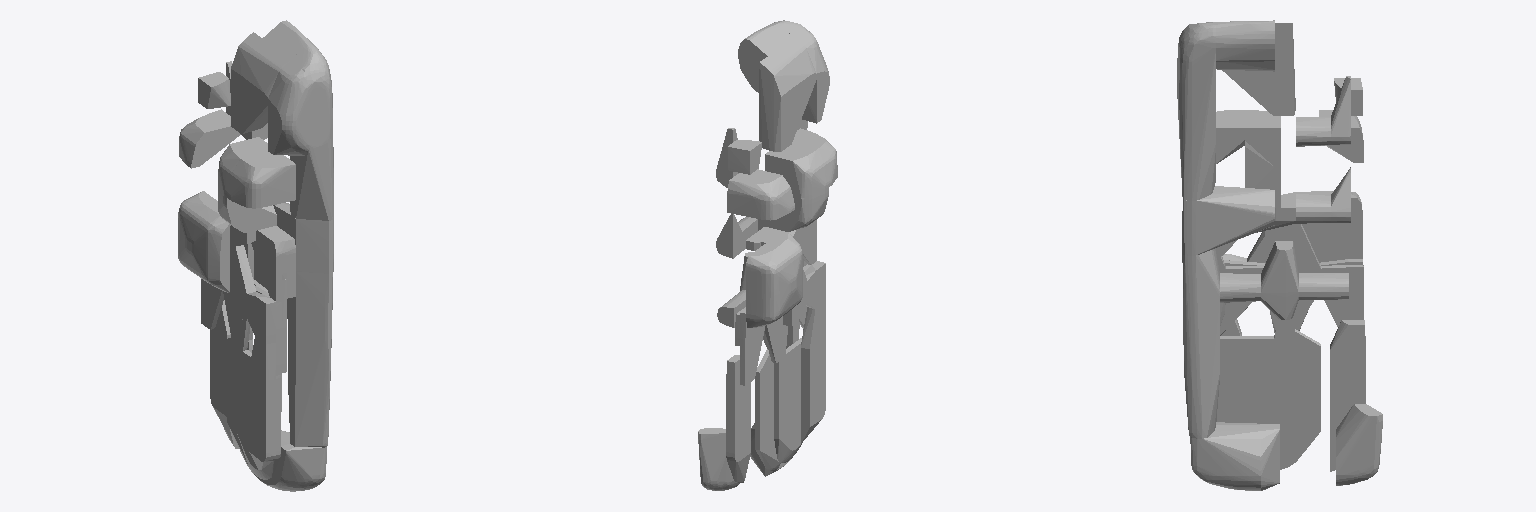
--- Render facts (derived) ---
3 views of the same robot in one strip: view 1: azimuth 30°, elevation 25°; view 2: azimuth 150°, elevation 25°; view 3: azimuth 270°, elevation 25° (orthographic).
Model root with 76 links and 75 joints (75 fixed), rooted at link_coacd_convex_piece_0, posed every joint at zero.
Visible links, largest first — view 1: link_coacd_convex_piece_8, link_coacd_convex_piece_4, link_coacd_convex_piece_11, link_coacd_convex_piece_30, link_coacd_convex_piece_35, link_coacd_convex_piece_43, link_coacd_convex_piece_23, link_coacd_convex_piece_0, link_coacd_convex_piece_1, link_coacd_convex_piece_14, link_coacd_convex_piece_41, link_coacd_convex_piece_37 (+11 smaller); view 2: link_coacd_convex_piece_30, link_coacd_convex_piece_11, link_coacd_convex_piece_43, link_coacd_convex_piece_41, link_coacd_convex_piece_14, link_coacd_convex_piece_37, link_coacd_convex_piece_16, link_coacd_convex_piece_55, link_coacd_convex_piece_5, link_coacd_convex_piece_18, link_coacd_convex_piece_35, link_coacd_convex_piece_15 (+7 smaller); view 3: link_coacd_convex_piece_8, link_coacd_convex_piece_4, link_coacd_convex_piece_55, link_coacd_convex_piece_1, link_coacd_convex_piece_41, link_coacd_convex_piece_0, link_coacd_convex_piece_37, link_coacd_convex_piece_5, link_coacd_convex_piece_30, link_coacd_convex_piece_18, link_coacd_convex_piece_11, link_coacd_convex_piece_36 (+15 smaller).
Link boxes in pixels (<box>): link_coacd_convex_piece_8: <box>288,272,332,447</box>; link_coacd_convex_piece_4: <box>290,44,333,220</box>; link_coacd_convex_piece_11: <box>178,191,230,292</box>; link_coacd_convex_piece_30: <box>231,32,290,133</box>; link_coacd_convex_piece_35: <box>268,61,308,155</box>; link_coacd_convex_piece_43: <box>249,337,275,469</box>; link_coacd_convex_piece_23: <box>227,152,295,208</box>; link_coacd_convex_piece_0: <box>273,203,333,273</box>; link_coacd_convex_piece_1: <box>254,430,326,491</box>; link_coacd_convex_piece_14: <box>179,109,240,168</box>; link_coacd_convex_piece_41: <box>236,347,281,479</box>; link_coacd_convex_piece_37: <box>210,300,235,448</box>; link_coacd_convex_piece_30: <box>759,38,816,151</box>; link_coacd_convex_piece_11: <box>746,231,802,327</box>; link_coacd_convex_piece_43: <box>801,302,825,443</box>; link_coacd_convex_piece_41: <box>774,338,801,462</box>; link_coacd_convex_piece_14: <box>727,169,794,220</box>; link_coacd_convex_piece_37: <box>726,355,750,482</box>; link_coacd_convex_piece_16: <box>765,145,828,197</box>; link_coacd_convex_piece_55: <box>755,349,780,470</box>; link_coacd_convex_piece_5: <box>698,428,739,490</box>; link_coacd_convex_piece_18: <box>738,23,793,92</box>; link_coacd_convex_piece_35: <box>795,30,829,123</box>; link_coacd_convex_piece_15: <box>765,189,828,231</box>; link_coacd_convex_piece_8: <box>1182,249,1219,438</box>; link_coacd_convex_piece_4: <box>1177,22,1215,200</box>; link_coacd_convex_piece_55: <box>1274,329,1320,469</box>; link_coacd_convex_piece_1: <box>1190,422,1279,490</box>; link_coacd_convex_piece_41: <box>1217,336,1273,423</box>; link_coacd_convex_piece_0: <box>1182,186,1274,255</box>; link_coacd_convex_piece_37: <box>1330,320,1365,471</box>; link_coacd_convex_piece_5: <box>1336,404,1382,485</box>; link_coacd_convex_piece_30: <box>1222,23,1295,115</box>; link_coacd_convex_piece_18: <box>1216,20,1274,71</box>; link_coacd_convex_piece_11: <box>1282,191,1362,262</box>; link_coacd_convex_piece_36: <box>1261,241,1298,319</box>.
Size in the robot's own frame: 0.0508 by 0.1063 by 0.2709 metres.
41 mesh visuals loaded from 76 distinct referenced files (41 OBJ); not drawn: 35 (reference not matched to a file when rendering).

robot.urdf — root:
<robot name="root">
  <link name="link_coacd_convex_piece_0">
    <inertial>
      <origin xyz="0 0 0" rpy="0 0 0"/>
      <inertia ixx="1.24E-08" ixy="3.77E-09" ixz="-2.43E-09" iyy="5.85E-09" iyz="4.87E-09" izz="1.04E-08"/>
    </inertial>
    <visual>
      <origin xyz="0 0 0" rpy="0 0 0"/>
      <geometry>
        <mesh filename="coacd_convex_piece_0.obj" scale="1.0000E+00 1.0000E+00 1.0000E+00"/>
      </geometry>
      <material name="">
        <color rgba="7.50E-01 7.50E-01 7.50E-01 1"/>
      </material>
    </visual>
    <collision>
      <origin xyz="0 0 0" rpy="0 0 0"/>
      <geometry>
        <mesh filename="coacd_convex_piece_0.obj" scale="1.0000E+00 1.0000E+00 1.0000E+00"/>
      </geometry>
    </collision>
  </link>
  <link name="link_coacd_convex_piece_1">
    <inertial>
      <origin xyz="0 0 0" rpy="0 0 0"/>
      <inertia ixx="1.66E-07" ixy="3.44E-09" ixz="1.58E-08" iyy="1.60E-07" iyz="-3.16E-08" izz="9.93E-09"/>
    </inertial>
    <visual>
      <origin xyz="0 0 0" rpy="0 0 0"/>
      <geometry>
        <mesh filename="coacd_convex_piece_1.obj" scale="1.0000E+00 1.0000E+00 1.0000E+00"/>
      </geometry>
      <material name="">
        <color rgba="7.50E-01 7.50E-01 7.50E-01 1"/>
      </material>
    </visual>
    <collision>
      <origin xyz="0 0 0" rpy="0 0 0"/>
      <geometry>
        <mesh filename="coacd_convex_piece_1.obj" scale="1.0000E+00 1.0000E+00 1.0000E+00"/>
      </geometry>
    </collision>
  </link>
  <joint name="link_coacd_convex_piece_1_joint" type="fixed">
    <origin xyz="0 0 0" rpy="0 0 0"/>
    <parent link="link_coacd_convex_piece_0"/>
    <child link="link_coacd_convex_piece_1"/>
  </joint>
  <link name="link_coacd_convex_piece_2">
    <inertial>
      <origin xyz="0 0 0" rpy="0 0 0"/>
      <inertia ixx="1.95E-07" ixy="-4.46E-09" ixz="-2.51E-08" iyy="1.90E-07" iyz="-3.24E-08" izz="1.23E-08"/>
    </inertial>
    <visual>
      <origin xyz="0 0 0" rpy="0 0 0"/>
      <geometry>
        <mesh filename="coacd_convex_piece_2.obj" scale="1.0000E+00 1.0000E+00 1.0000E+00"/>
      </geometry>
      <material name="">
        <color rgba="7.50E-01 7.50E-01 7.50E-01 1"/>
      </material>
    </visual>
    <collision>
      <origin xyz="0 0 0" rpy="0 0 0"/>
      <geometry>
        <mesh filename="coacd_convex_piece_2.obj" scale="1.0000E+00 1.0000E+00 1.0000E+00"/>
      </geometry>
    </collision>
  </link>
  <joint name="link_coacd_convex_piece_2_joint" type="fixed">
    <origin xyz="0 0 0" rpy="0 0 0"/>
    <parent link="link_coacd_convex_piece_1"/>
    <child link="link_coacd_convex_piece_2"/>
  </joint>
  <link name="link_coacd_convex_piece_3">
    <inertial>
      <origin xyz="0 0 0" rpy="0 0 0"/>
      <inertia ixx="2.03E-07" ixy="-3.38E-10" ixz="3.12E-08" iyy="1.96E-07" iyz="2.62E-09" izz="1.81E-08"/>
    </inertial>
    <visual>
      <origin xyz="0 0 0" rpy="0 0 0"/>
      <geometry>
        <mesh filename="coacd_convex_piece_3.obj" scale="1.0000E+00 1.0000E+00 1.0000E+00"/>
      </geometry>
      <material name="">
        <color rgba="7.50E-01 7.50E-01 7.50E-01 1"/>
      </material>
    </visual>
    <collision>
      <origin xyz="0 0 0" rpy="0 0 0"/>
      <geometry>
        <mesh filename="coacd_convex_piece_3.obj" scale="1.0000E+00 1.0000E+00 1.0000E+00"/>
      </geometry>
    </collision>
  </link>
  <joint name="link_coacd_convex_piece_3_joint" type="fixed">
    <origin xyz="0 0 0" rpy="0 0 0"/>
    <parent link="link_coacd_convex_piece_2"/>
    <child link="link_coacd_convex_piece_3"/>
  </joint>
  <link name="link_coacd_convex_piece_4">
    <inertial>
      <origin xyz="0 0 0" rpy="0 0 0"/>
      <inertia ixx="1.36E-07" ixy="9.33E-09" ixz="-1.81E-08" iyy="1.13E-07" iyz="5.14E-08" izz="3.05E-08"/>
    </inertial>
    <visual>
      <origin xyz="0 0 0" rpy="0 0 0"/>
      <geometry>
        <mesh filename="coacd_convex_piece_4.obj" scale="1.0000E+00 1.0000E+00 1.0000E+00"/>
      </geometry>
      <material name="">
        <color rgba="7.50E-01 7.50E-01 7.50E-01 1"/>
      </material>
    </visual>
    <collision>
      <origin xyz="0 0 0" rpy="0 0 0"/>
      <geometry>
        <mesh filename="coacd_convex_piece_4.obj" scale="1.0000E+00 1.0000E+00 1.0000E+00"/>
      </geometry>
    </collision>
  </link>
  <joint name="link_coacd_convex_piece_4_joint" type="fixed">
    <origin xyz="0 0 0" rpy="0 0 0"/>
    <parent link="link_coacd_convex_piece_3"/>
    <child link="link_coacd_convex_piece_4"/>
  </joint>
  <link name="link_coacd_convex_piece_5">
    <inertial>
      <origin xyz="0 0 0" rpy="0 0 0"/>
      <inertia ixx="6.55E-08" ixy="-2.67E-09" ixz="7.65E-09" iyy="5.95E-08" iyz="1.99E-08" izz="8.19E-09"/>
    </inertial>
    <visual>
      <origin xyz="0 0 0" rpy="0 0 0"/>
      <geometry>
        <mesh filename="coacd_convex_piece_5.obj" scale="1.0000E+00 1.0000E+00 1.0000E+00"/>
      </geometry>
      <material name="">
        <color rgba="7.50E-01 7.50E-01 7.50E-01 1"/>
      </material>
    </visual>
    <collision>
      <origin xyz="0 0 0" rpy="0 0 0"/>
      <geometry>
        <mesh filename="coacd_convex_piece_5.obj" scale="1.0000E+00 1.0000E+00 1.0000E+00"/>
      </geometry>
    </collision>
  </link>
  <joint name="link_coacd_convex_piece_5_joint" type="fixed">
    <origin xyz="0 0 0" rpy="0 0 0"/>
    <parent link="link_coacd_convex_piece_4"/>
    <child link="link_coacd_convex_piece_5"/>
  </joint>
  <link name="link_coacd_convex_piece_6">
    <inertial>
      <origin xyz="0 0 0" rpy="0 0 0"/>
      <inertia ixx="1.00E-07" ixy="-9.01E-09" ixz="-2.04E-08" iyy="9.48E-08" iyz="-2.32E-08" izz="2.14E-08"/>
    </inertial>
    <visual>
      <origin xyz="0 0 0" rpy="0 0 0"/>
      <geometry>
        <mesh filename="coacd_convex_piece_6.obj" scale="1.0000E+00 1.0000E+00 1.0000E+00"/>
      </geometry>
      <material name="">
        <color rgba="7.50E-01 7.50E-01 7.50E-01 1"/>
      </material>
    </visual>
    <collision>
      <origin xyz="0 0 0" rpy="0 0 0"/>
      <geometry>
        <mesh filename="coacd_convex_piece_6.obj" scale="1.0000E+00 1.0000E+00 1.0000E+00"/>
      </geometry>
    </collision>
  </link>
  <joint name="link_coacd_convex_piece_6_joint" type="fixed">
    <origin xyz="0 0 0" rpy="0 0 0"/>
    <parent link="link_coacd_convex_piece_5"/>
    <child link="link_coacd_convex_piece_6"/>
  </joint>
  <link name="link_coacd_convex_piece_7">
    <inertial>
      <origin xyz="0 0 0" rpy="0 0 0"/>
      <inertia ixx="1.43E-07" ixy="-1.03E-09" ixz="1.70E-08" iyy="1.43E-07" iyz="8.55E-09" izz="3.95E-09"/>
    </inertial>
    <visual>
      <origin xyz="0 0 0" rpy="0 0 0"/>
      <geometry>
        <mesh filename="coacd_convex_piece_7.obj" scale="1.0000E+00 1.0000E+00 1.0000E+00"/>
      </geometry>
      <material name="">
        <color rgba="7.50E-01 7.50E-01 7.50E-01 1"/>
      </material>
    </visual>
    <collision>
      <origin xyz="0 0 0" rpy="0 0 0"/>
      <geometry>
        <mesh filename="coacd_convex_piece_7.obj" scale="1.0000E+00 1.0000E+00 1.0000E+00"/>
      </geometry>
    </collision>
  </link>
  <joint name="link_coacd_convex_piece_7_joint" type="fixed">
    <origin xyz="0 0 0" rpy="0 0 0"/>
    <parent link="link_coacd_convex_piece_6"/>
    <child link="link_coacd_convex_piece_7"/>
  </joint>
  <link name="link_coacd_convex_piece_8">
    <inertial>
      <origin xyz="0 0 0" rpy="0 0 0"/>
      <inertia ixx="4.92E-08" ixy="6.75E-09" ixz="7.59E-09" iyy="3.44E-08" iyz="-1.98E-08" izz="2.03E-08"/>
    </inertial>
    <visual>
      <origin xyz="0 0 0" rpy="0 0 0"/>
      <geometry>
        <mesh filename="coacd_convex_piece_8.obj" scale="1.0000E+00 1.0000E+00 1.0000E+00"/>
      </geometry>
      <material name="">
        <color rgba="7.50E-01 7.50E-01 7.50E-01 1"/>
      </material>
    </visual>
    <collision>
      <origin xyz="0 0 0" rpy="0 0 0"/>
      <geometry>
        <mesh filename="coacd_convex_piece_8.obj" scale="1.0000E+00 1.0000E+00 1.0000E+00"/>
      </geometry>
    </collision>
  </link>
  <joint name="link_coacd_convex_piece_8_joint" type="fixed">
    <origin xyz="0 0 0" rpy="0 0 0"/>
    <parent link="link_coacd_convex_piece_7"/>
    <child link="link_coacd_convex_piece_8"/>
  </joint>
  <link name="link_coacd_convex_piece_9">
    <inertial>
      <origin xyz="0 0 0" rpy="0 0 0"/>
      <inertia ixx="1.62E-07" ixy="8.86E-09" ixz="-2.83E-08" iyy="1.52E-07" iyz="4.03E-08" izz="2.37E-08"/>
    </inertial>
    <visual>
      <origin xyz="0 0 0" rpy="0 0 0"/>
      <geometry>
        <mesh filename="coacd_convex_piece_9.obj" scale="1.0000E+00 1.0000E+00 1.0000E+00"/>
      </geometry>
      <material name="">
        <color rgba="7.50E-01 7.50E-01 7.50E-01 1"/>
      </material>
    </visual>
    <collision>
      <origin xyz="0 0 0" rpy="0 0 0"/>
      <geometry>
        <mesh filename="coacd_convex_piece_9.obj" scale="1.0000E+00 1.0000E+00 1.0000E+00"/>
      </geometry>
    </collision>
  </link>
  <joint name="link_coacd_convex_piece_9_joint" type="fixed">
    <origin xyz="0 0 0" rpy="0 0 0"/>
    <parent link="link_coacd_convex_piece_8"/>
    <child link="link_coacd_convex_piece_9"/>
  </joint>
  <link name="link_coacd_convex_piece_10">
    <inertial>
      <origin xyz="0 0 0" rpy="0 0 0"/>
      <inertia ixx="8.25E-08" ixy="-1.18E-08" ixz="-1.28E-09" iyy="5.32E-08" iyz="-2.88E-09" izz="3.80E-08"/>
    </inertial>
    <visual>
      <origin xyz="0 0 0" rpy="0 0 0"/>
      <geometry>
        <mesh filename="coacd_convex_piece_10.obj" scale="1.0000E+00 1.0000E+00 1.0000E+00"/>
      </geometry>
      <material name="">
        <color rgba="7.50E-01 7.50E-01 7.50E-01 1"/>
      </material>
    </visual>
    <collision>
      <origin xyz="0 0 0" rpy="0 0 0"/>
      <geometry>
        <mesh filename="coacd_convex_piece_10.obj" scale="1.0000E+00 1.0000E+00 1.0000E+00"/>
      </geometry>
    </collision>
  </link>
  <joint name="link_coacd_convex_piece_10_joint" type="fixed">
    <origin xyz="0 0 0" rpy="0 0 0"/>
    <parent link="link_coacd_convex_piece_9"/>
    <child link="link_coacd_convex_piece_10"/>
  </joint>
  <link name="link_coacd_convex_piece_11">
    <inertial>
      <origin xyz="0 0 0" rpy="0 0 0"/>
      <inertia ixx="9.17E-09" ixy="3.70E-09" ixz="1.38E-10" iyy="4.70E-09" iyz="-1.90E-10" izz="1.01E-08"/>
    </inertial>
    <visual>
      <origin xyz="0 0 0" rpy="0 0 0"/>
      <geometry>
        <mesh filename="coacd_convex_piece_11.obj" scale="1.0000E+00 1.0000E+00 1.0000E+00"/>
      </geometry>
      <material name="">
        <color rgba="7.50E-01 7.50E-01 7.50E-01 1"/>
      </material>
    </visual>
    <collision>
      <origin xyz="0 0 0" rpy="0 0 0"/>
      <geometry>
        <mesh filename="coacd_convex_piece_11.obj" scale="1.0000E+00 1.0000E+00 1.0000E+00"/>
      </geometry>
    </collision>
  </link>
  <joint name="link_coacd_convex_piece_11_joint" type="fixed">
    <origin xyz="0 0 0" rpy="0 0 0"/>
    <parent link="link_coacd_convex_piece_10"/>
    <child link="link_coacd_convex_piece_11"/>
  </joint>
  <link name="link_coacd_convex_piece_12">
    <inertial>
      <origin xyz="0 0 0" rpy="0 0 0"/>
      <inertia ixx="2.55E-08" ixy="3.87E-12" ixz="1.44E-10" iyy="2.30E-08" iyz="1.05E-09" izz="2.69E-09"/>
    </inertial>
    <visual>
      <origin xyz="0 0 0" rpy="0 0 0"/>
      <geometry>
        <mesh filename="coacd_convex_piece_12.obj" scale="1.0000E+00 1.0000E+00 1.0000E+00"/>
      </geometry>
      <material name="">
        <color rgba="7.50E-01 7.50E-01 7.50E-01 1"/>
      </material>
    </visual>
    <collision>
      <origin xyz="0 0 0" rpy="0 0 0"/>
      <geometry>
        <mesh filename="coacd_convex_piece_12.obj" scale="1.0000E+00 1.0000E+00 1.0000E+00"/>
      </geometry>
    </collision>
  </link>
  <joint name="link_coacd_convex_piece_12_joint" type="fixed">
    <origin xyz="0 0 0" rpy="0 0 0"/>
    <parent link="link_coacd_convex_piece_11"/>
    <child link="link_coacd_convex_piece_12"/>
  </joint>
  <link name="link_coacd_convex_piece_13">
    <inertial>
      <origin xyz="0 0 0" rpy="0 0 0"/>
      <inertia ixx="3.09E-09" ixy="1.57E-10" ixz="-1.61E-10" iyy="1.67E-09" iyz="1.45E-09" izz="1.46E-09"/>
    </inertial>
    <visual>
      <origin xyz="0 0 0" rpy="0 0 0"/>
      <geometry>
        <mesh filename="coacd_convex_piece_13.obj" scale="1.0000E+00 1.0000E+00 1.0000E+00"/>
      </geometry>
      <material name="">
        <color rgba="7.50E-01 7.50E-01 7.50E-01 1"/>
      </material>
    </visual>
    <collision>
      <origin xyz="0 0 0" rpy="0 0 0"/>
      <geometry>
        <mesh filename="coacd_convex_piece_13.obj" scale="1.0000E+00 1.0000E+00 1.0000E+00"/>
      </geometry>
    </collision>
  </link>
  <joint name="link_coacd_convex_piece_13_joint" type="fixed">
    <origin xyz="0 0 0" rpy="0 0 0"/>
    <parent link="link_coacd_convex_piece_12"/>
    <child link="link_coacd_convex_piece_13"/>
  </joint>
  <link name="link_coacd_convex_piece_14">
    <inertial>
      <origin xyz="0 0 0" rpy="0 0 0"/>
      <inertia ixx="2.22E-08" ixy="1.16E-09" ixz="2.32E-09" iyy="1.81E-08" iyz="-8.82E-09" izz="5.37E-09"/>
    </inertial>
    <visual>
      <origin xyz="0 0 0" rpy="0 0 0"/>
      <geometry>
        <mesh filename="coacd_convex_piece_14.obj" scale="1.0000E+00 1.0000E+00 1.0000E+00"/>
      </geometry>
      <material name="">
        <color rgba="7.50E-01 7.50E-01 7.50E-01 1"/>
      </material>
    </visual>
    <collision>
      <origin xyz="0 0 0" rpy="0 0 0"/>
      <geometry>
        <mesh filename="coacd_convex_piece_14.obj" scale="1.0000E+00 1.0000E+00 1.0000E+00"/>
      </geometry>
    </collision>
  </link>
  <joint name="link_coacd_convex_piece_14_joint" type="fixed">
    <origin xyz="0 0 0" rpy="0 0 0"/>
    <parent link="link_coacd_convex_piece_13"/>
    <child link="link_coacd_convex_piece_14"/>
  </joint>
  <link name="link_coacd_convex_piece_15">
    <inertial>
      <origin xyz="0 0 0" rpy="0 0 0"/>
      <inertia ixx="6.81E-09" ixy="-4.52E-10" ixz="1.46E-09" iyy="6.80E-09" iyz="1.74E-09" izz="1.31E-09"/>
    </inertial>
    <visual>
      <origin xyz="0 0 0" rpy="0 0 0"/>
      <geometry>
        <mesh filename="coacd_convex_piece_15.obj" scale="1.0000E+00 1.0000E+00 1.0000E+00"/>
      </geometry>
      <material name="">
        <color rgba="7.50E-01 7.50E-01 7.50E-01 1"/>
      </material>
    </visual>
    <collision>
      <origin xyz="0 0 0" rpy="0 0 0"/>
      <geometry>
        <mesh filename="coacd_convex_piece_15.obj" scale="1.0000E+00 1.0000E+00 1.0000E+00"/>
      </geometry>
    </collision>
  </link>
  <joint name="link_coacd_convex_piece_15_joint" type="fixed">
    <origin xyz="0 0 0" rpy="0 0 0"/>
    <parent link="link_coacd_convex_piece_14"/>
    <child link="link_coacd_convex_piece_15"/>
  </joint>
  <link name="link_coacd_convex_piece_16">
    <inertial>
      <origin xyz="0 0 0" rpy="0 0 0"/>
      <inertia ixx="1.67E-08" ixy="-4.28E-10" ixz="2.15E-09" iyy="1.67E-08" iyz="2.83E-09" izz="1.24E-09"/>
    </inertial>
    <visual>
      <origin xyz="0 0 0" rpy="0 0 0"/>
      <geometry>
        <mesh filename="coacd_convex_piece_16.obj" scale="1.0000E+00 1.0000E+00 1.0000E+00"/>
      </geometry>
      <material name="">
        <color rgba="7.50E-01 7.50E-01 7.50E-01 1"/>
      </material>
    </visual>
    <collision>
      <origin xyz="0 0 0" rpy="0 0 0"/>
      <geometry>
        <mesh filename="coacd_convex_piece_16.obj" scale="1.0000E+00 1.0000E+00 1.0000E+00"/>
      </geometry>
    </collision>
  </link>
  <joint name="link_coacd_convex_piece_16_joint" type="fixed">
    <origin xyz="0 0 0" rpy="0 0 0"/>
    <parent link="link_coacd_convex_piece_15"/>
    <child link="link_coacd_convex_piece_16"/>
  </joint>
  <link name="link_coacd_convex_piece_17">
    <inertial>
      <origin xyz="0 0 0" rpy="0 0 0"/>
      <inertia ixx="1.65E-08" ixy="3.59E-10" ixz="2.11E-09" iyy="1.67E-08" iyz="-2.40E-09" izz="1.08E-09"/>
    </inertial>
    <visual>
      <origin xyz="0 0 0" rpy="0 0 0"/>
      <geometry>
        <mesh filename="coacd_convex_piece_17.obj" scale="1.0000E+00 1.0000E+00 1.0000E+00"/>
      </geometry>
      <material name="">
        <color rgba="7.50E-01 7.50E-01 7.50E-01 1"/>
      </material>
    </visual>
    <collision>
      <origin xyz="0 0 0" rpy="0 0 0"/>
      <geometry>
        <mesh filename="coacd_convex_piece_17.obj" scale="1.0000E+00 1.0000E+00 1.0000E+00"/>
      </geometry>
    </collision>
  </link>
  <joint name="link_coacd_convex_piece_17_joint" type="fixed">
    <origin xyz="0 0 0" rpy="0 0 0"/>
    <parent link="link_coacd_convex_piece_16"/>
    <child link="link_coacd_convex_piece_17"/>
  </joint>
  <link name="link_coacd_convex_piece_18">
    <inertial>
      <origin xyz="0 0 0" rpy="0 0 0"/>
      <inertia ixx="9.74E-08" ixy="1.96E-09" ixz="-1.23E-08" iyy="9.62E-08" iyz="1.51E-08" izz="4.68E-09"/>
    </inertial>
    <visual>
      <origin xyz="0 0 0" rpy="0 0 0"/>
      <geometry>
        <mesh filename="coacd_convex_piece_18.obj" scale="1.0000E+00 1.0000E+00 1.0000E+00"/>
      </geometry>
      <material name="">
        <color rgba="7.50E-01 7.50E-01 7.50E-01 1"/>
      </material>
    </visual>
    <collision>
      <origin xyz="0 0 0" rpy="0 0 0"/>
      <geometry>
        <mesh filename="coacd_convex_piece_18.obj" scale="1.0000E+00 1.0000E+00 1.0000E+00"/>
      </geometry>
    </collision>
  </link>
  <joint name="link_coacd_convex_piece_18_joint" type="fixed">
    <origin xyz="0 0 0" rpy="0 0 0"/>
    <parent link="link_coacd_convex_piece_17"/>
    <child link="link_coacd_convex_piece_18"/>
  </joint>
  <link name="link_coacd_convex_piece_19">
    <inertial>
      <origin xyz="0 0 0" rpy="0 0 0"/>
      <inertia ixx="7.35E-09" ixy="4.08E-10" ixz="1.55E-09" iyy="7.48E-09" iyz="-1.61E-09" izz="1.24E-09"/>
    </inertial>
    <visual>
      <origin xyz="0 0 0" rpy="0 0 0"/>
      <geometry>
        <mesh filename="coacd_convex_piece_19.obj" scale="1.0000E+00 1.0000E+00 1.0000E+00"/>
      </geometry>
      <material name="">
        <color rgba="7.50E-01 7.50E-01 7.50E-01 1"/>
      </material>
    </visual>
    <collision>
      <origin xyz="0 0 0" rpy="0 0 0"/>
      <geometry>
        <mesh filename="coacd_convex_piece_19.obj" scale="1.0000E+00 1.0000E+00 1.0000E+00"/>
      </geometry>
    </collision>
  </link>
  <joint name="link_coacd_convex_piece_19_joint" type="fixed">
    <origin xyz="0 0 0" rpy="0 0 0"/>
    <parent link="link_coacd_convex_piece_18"/>
    <child link="link_coacd_convex_piece_19"/>
  </joint>
  <link name="link_coacd_convex_piece_20">
    <inertial>
      <origin xyz="0 0 0" rpy="0 0 0"/>
      <inertia ixx="1.53E-08" ixy="1.59E-09" ixz="2.08E-09" iyy="9.87E-09" iyz="-7.30E-09" izz="7.28E-09"/>
    </inertial>
    <visual>
      <origin xyz="0 0 0" rpy="0 0 0"/>
      <geometry>
        <mesh filename="coacd_convex_piece_20.obj" scale="1.0000E+00 1.0000E+00 1.0000E+00"/>
      </geometry>
      <material name="">
        <color rgba="7.50E-01 7.50E-01 7.50E-01 1"/>
      </material>
    </visual>
    <collision>
      <origin xyz="0 0 0" rpy="0 0 0"/>
      <geometry>
        <mesh filename="coacd_convex_piece_20.obj" scale="1.0000E+00 1.0000E+00 1.0000E+00"/>
      </geometry>
    </collision>
  </link>
  <joint name="link_coacd_convex_piece_20_joint" type="fixed">
    <origin xyz="0 0 0" rpy="0 0 0"/>
    <parent link="link_coacd_convex_piece_19"/>
    <child link="link_coacd_convex_piece_20"/>
  </joint>
  <link name="link_coacd_convex_piece_21">
    <inertial>
      <origin xyz="0 0 0" rpy="0 0 0"/>
      <inertia ixx="1.38E-09" ixy="3.70E-10" ixz="3.57E-10" iyy="8.62E-10" iyz="-6.59E-10" izz="9.48E-10"/>
    </inertial>
    <visual>
      <origin xyz="0 0 0" rpy="0 0 0"/>
      <geometry>
        <mesh filename="coacd_convex_piece_21.obj" scale="1.0000E+00 1.0000E+00 1.0000E+00"/>
      </geometry>
      <material name="">
        <color rgba="7.50E-01 7.50E-01 7.50E-01 1"/>
      </material>
    </visual>
    <collision>
      <origin xyz="0 0 0" rpy="0 0 0"/>
      <geometry>
        <mesh filename="coacd_convex_piece_21.obj" scale="1.0000E+00 1.0000E+00 1.0000E+00"/>
      </geometry>
    </collision>
  </link>
  <joint name="link_coacd_convex_piece_21_joint" type="fixed">
    <origin xyz="0 0 0" rpy="0 0 0"/>
    <parent link="link_coacd_convex_piece_20"/>
    <child link="link_coacd_convex_piece_21"/>
  </joint>
  <link name="link_coacd_convex_piece_22">
    <inertial>
      <origin xyz="0 0 0" rpy="0 0 0"/>
      <inertia ixx="1.21E-08" ixy="-1.26E-09" ixz="1.55E-09" iyy="7.50E-09" iyz="5.82E-09" izz="5.97E-09"/>
    </inertial>
    <visual>
      <origin xyz="0 0 0" rpy="0 0 0"/>
      <geometry>
        <mesh filename="coacd_convex_piece_22.obj" scale="1.0000E+00 1.0000E+00 1.0000E+00"/>
      </geometry>
      <material name="">
        <color rgba="7.50E-01 7.50E-01 7.50E-01 1"/>
      </material>
    </visual>
    <collision>
      <origin xyz="0 0 0" rpy="0 0 0"/>
      <geometry>
        <mesh filename="coacd_convex_piece_22.obj" scale="1.0000E+00 1.0000E+00 1.0000E+00"/>
      </geometry>
    </collision>
  </link>
  <joint name="link_coacd_convex_piece_22_joint" type="fixed">
    <origin xyz="0 0 0" rpy="0 0 0"/>
    <parent link="link_coacd_convex_piece_21"/>
    <child link="link_coacd_convex_piece_22"/>
  </joint>
  <link name="link_coacd_convex_piece_23">
    <inertial>
      <origin xyz="0 0 0" rpy="0 0 0"/>
      <inertia ixx="2.19E-08" ixy="-1.14E-09" ixz="2.18E-09" iyy="1.76E-08" iyz="8.93E-09" izz="5.54E-09"/>
    </inertial>
    <visual>
      <origin xyz="0 0 0" rpy="0 0 0"/>
      <geometry>
        <mesh filename="coacd_convex_piece_23.obj" scale="1.0000E+00 1.0000E+00 1.0000E+00"/>
      </geometry>
      <material name="">
        <color rgba="7.50E-01 7.50E-01 7.50E-01 1"/>
      </material>
    </visual>
    <collision>
      <origin xyz="0 0 0" rpy="0 0 0"/>
      <geometry>
        <mesh filename="coacd_convex_piece_23.obj" scale="1.0000E+00 1.0000E+00 1.0000E+00"/>
      </geometry>
    </collision>
  </link>
  <joint name="link_coacd_convex_piece_23_joint" type="fixed">
    <origin xyz="0 0 0" rpy="0 0 0"/>
    <parent link="link_coacd_convex_piece_22"/>
    <child link="link_coacd_convex_piece_23"/>
  </joint>
  <link name="link_coacd_convex_piece_24">
    <inertial>
      <origin xyz="0 0 0" rpy="0 0 0"/>
      <inertia ixx="1.85E-08" ixy="-7.61E-11" ixz="-3.64E-09" iyy="1.94E-08" iyz="-2.82E-10" izz="1.03E-09"/>
    </inertial>
    <visual>
      <origin xyz="0 0 0" rpy="0 0 0"/>
      <geometry>
        <mesh filename="coacd_convex_piece_24.obj" scale="1.0000E+00 1.0000E+00 1.0000E+00"/>
      </geometry>
      <material name="">
        <color rgba="7.50E-01 7.50E-01 7.50E-01 1"/>
      </material>
    </visual>
    <collision>
      <origin xyz="0 0 0" rpy="0 0 0"/>
      <geometry>
        <mesh filename="coacd_convex_piece_24.obj" scale="1.0000E+00 1.0000E+00 1.0000E+00"/>
      </geometry>
    </collision>
  </link>
  <joint name="link_coacd_convex_piece_24_joint" type="fixed">
    <origin xyz="0 0 0" rpy="0 0 0"/>
    <parent link="link_coacd_convex_piece_23"/>
    <child link="link_coacd_convex_piece_24"/>
  </joint>
  <link name="link_coacd_convex_piece_25">
    <inertial>
      <origin xyz="0 0 0" rpy="0 0 0"/>
      <inertia ixx="6.28E-09" ixy="3.40E-10" ixz="1.01E-09" iyy="5.79E-09" iyz="-1.89E-09" izz="8.79E-10"/>
    </inertial>
    <visual>
      <origin xyz="0 0 0" rpy="0 0 0"/>
      <geometry>
        <mesh filename="coacd_convex_piece_25.obj" scale="1.0000E+00 1.0000E+00 1.0000E+00"/>
      </geometry>
      <material name="">
        <color rgba="7.50E-01 7.50E-01 7.50E-01 1"/>
      </material>
    </visual>
    <collision>
      <origin xyz="0 0 0" rpy="0 0 0"/>
      <geometry>
        <mesh filename="coacd_convex_piece_25.obj" scale="1.0000E+00 1.0000E+00 1.0000E+00"/>
      </geometry>
    </collision>
  </link>
  <joint name="link_coacd_convex_piece_25_joint" type="fixed">
    <origin xyz="0 0 0" rpy="0 0 0"/>
    <parent link="link_coacd_convex_piece_24"/>
    <child link="link_coacd_convex_piece_25"/>
  </joint>
  <link name="link_coacd_convex_piece_26">
    <inertial>
      <origin xyz="0 0 0" rpy="0 0 0"/>
      <inertia ixx="9.27E-10" ixy="-2.07E-10" ixz="-3.13E-10" iyy="8.02E-10" iyz="-4.08E-10" izz="4.66E-10"/>
    </inertial>
    <visual>
      <origin xyz="0 0 0" rpy="0 0 0"/>
      <geometry>
        <mesh filename="coacd_convex_piece_26.obj" scale="1.0000E+00 1.0000E+00 1.0000E+00"/>
      </geometry>
      <material name="">
        <color rgba="7.50E-01 7.50E-01 7.50E-01 1"/>
      </material>
    </visual>
    <collision>
      <origin xyz="0 0 0" rpy="0 0 0"/>
      <geometry>
        <mesh filename="coacd_convex_piece_26.obj" scale="1.0000E+00 1.0000E+00 1.0000E+00"/>
      </geometry>
    </collision>
  </link>
  <joint name="link_coacd_convex_piece_26_joint" type="fixed">
    <origin xyz="0 0 0" rpy="0 0 0"/>
    <parent link="link_coacd_convex_piece_25"/>
    <child link="link_coacd_convex_piece_26"/>
  </joint>
  <link name="link_coacd_convex_piece_27">
    <inertial>
      <origin xyz="0 0 0" rpy="0 0 0"/>
      <inertia ixx="1.43E-09" ixy="-3.69E-10" ixz="3.75E-10" iyy="9.14E-10" iyz="6.63E-10" izz="9.61E-10"/>
    </inertial>
    <visual>
      <origin xyz="0 0 0" rpy="0 0 0"/>
      <geometry>
        <mesh filename="coacd_convex_piece_27.obj" scale="1.0000E+00 1.0000E+00 1.0000E+00"/>
      </geometry>
      <material name="">
        <color rgba="7.50E-01 7.50E-01 7.50E-01 1"/>
      </material>
    </visual>
    <collision>
      <origin xyz="0 0 0" rpy="0 0 0"/>
      <geometry>
        <mesh filename="coacd_convex_piece_27.obj" scale="1.0000E+00 1.0000E+00 1.0000E+00"/>
      </geometry>
    </collision>
  </link>
  <joint name="link_coacd_convex_piece_27_joint" type="fixed">
    <origin xyz="0 0 0" rpy="0 0 0"/>
    <parent link="link_coacd_convex_piece_26"/>
    <child link="link_coacd_convex_piece_27"/>
  </joint>
  <link name="link_coacd_convex_piece_28">
    <inertial>
      <origin xyz="0 0 0" rpy="0 0 0"/>
      <inertia ixx="8.21E-08" ixy="-1.54E-11" ixz="-9.52E-11" iyy="7.78E-08" iyz="-1.69E-08" izz="4.52E-09"/>
    </inertial>
    <visual>
      <origin xyz="0 0 0" rpy="0 0 0"/>
      <geometry>
        <mesh filename="coacd_convex_piece_28.obj" scale="1.0000E+00 1.0000E+00 1.0000E+00"/>
      </geometry>
      <material name="">
        <color rgba="7.50E-01 7.50E-01 7.50E-01 1"/>
      </material>
    </visual>
    <collision>
      <origin xyz="0 0 0" rpy="0 0 0"/>
      <geometry>
        <mesh filename="coacd_convex_piece_28.obj" scale="1.0000E+00 1.0000E+00 1.0000E+00"/>
      </geometry>
    </collision>
  </link>
  <joint name="link_coacd_convex_piece_28_joint" type="fixed">
    <origin xyz="0 0 0" rpy="0 0 0"/>
    <parent link="link_coacd_convex_piece_27"/>
    <child link="link_coacd_convex_piece_28"/>
  </joint>
  <link name="link_coacd_convex_piece_29">
    <inertial>
      <origin xyz="0 0 0" rpy="0 0 0"/>
      <inertia ixx="4.62E-09" ixy="5.48E-11" ixz="-6.73E-10" iyy="4.70E-09" iyz="3.62E-10" izz="1.40E-10"/>
    </inertial>
    <visual>
      <origin xyz="0 0 0" rpy="0 0 0"/>
      <geometry>
        <mesh filename="coacd_convex_piece_29.obj" scale="1.0000E+00 1.0000E+00 1.0000E+00"/>
      </geometry>
      <material name="">
        <color rgba="7.50E-01 7.50E-01 7.50E-01 1"/>
      </material>
    </visual>
    <collision>
      <origin xyz="0 0 0" rpy="0 0 0"/>
      <geometry>
        <mesh filename="coacd_convex_piece_29.obj" scale="1.0000E+00 1.0000E+00 1.0000E+00"/>
      </geometry>
    </collision>
  </link>
  <joint name="link_coacd_convex_piece_29_joint" type="fixed">
    <origin xyz="0 0 0" rpy="0 0 0"/>
    <parent link="link_coacd_convex_piece_28"/>
    <child link="link_coacd_convex_piece_29"/>
  </joint>
  <link name="link_coacd_convex_piece_30">
    <inertial>
      <origin xyz="0 0 0" rpy="0 0 0"/>
      <inertia ixx="1.08E-07" ixy="5.97E-12" ixz="-5.00E-11" iyy="1.06E-07" iyz="1.23E-08" izz="2.72E-09"/>
    </inertial>
    <visual>
      <origin xyz="0 0 0" rpy="0 0 0"/>
      <geometry>
        <mesh filename="coacd_convex_piece_30.obj" scale="1.0000E+00 1.0000E+00 1.0000E+00"/>
      </geometry>
      <material name="">
        <color rgba="7.50E-01 7.50E-01 7.50E-01 1"/>
      </material>
    </visual>
    <collision>
      <origin xyz="0 0 0" rpy="0 0 0"/>
      <geometry>
        <mesh filename="coacd_convex_piece_30.obj" scale="1.0000E+00 1.0000E+00 1.0000E+00"/>
      </geometry>
    </collision>
  </link>
  <joint name="link_coacd_convex_piece_30_joint" type="fixed">
    <origin xyz="0 0 0" rpy="0 0 0"/>
    <parent link="link_coacd_convex_piece_29"/>
    <child link="link_coacd_convex_piece_30"/>
  </joint>
  <link name="link_coacd_convex_piece_31">
    <inertial>
      <origin xyz="0 0 0" rpy="0 0 0"/>
      <inertia ixx="5.56E-09" ixy="-2.13E-10" ixz="-9.29E-10" iyy="5.43E-09" iyz="-1.20E-09" izz="4.79E-10"/>
    </inertial>
    <visual>
      <origin xyz="0 0 0" rpy="0 0 0"/>
      <geometry>
        <mesh filename="coacd_convex_piece_31.obj" scale="1.0000E+00 1.0000E+00 1.0000E+00"/>
      </geometry>
      <material name="">
        <color rgba="7.50E-01 7.50E-01 7.50E-01 1"/>
      </material>
    </visual>
    <collision>
      <origin xyz="0 0 0" rpy="0 0 0"/>
      <geometry>
        <mesh filename="coacd_convex_piece_31.obj" scale="1.0000E+00 1.0000E+00 1.0000E+00"/>
      </geometry>
    </collision>
  </link>
  <joint name="link_coacd_convex_piece_31_joint" type="fixed">
    <origin xyz="0 0 0" rpy="0 0 0"/>
    <parent link="link_coacd_convex_piece_30"/>
    <child link="link_coacd_convex_piece_31"/>
  </joint>
  <link name="link_coacd_convex_piece_32">
    <inertial>
      <origin xyz="0 0 0" rpy="0 0 0"/>
      <inertia ixx="2.42E-08" ixy="2.55E-10" ixz="-9.41E-10" iyy="2.23E-08" iyz="5.87E-09" izz="2.04E-09"/>
    </inertial>
    <visual>
      <origin xyz="0 0 0" rpy="0 0 0"/>
      <geometry>
        <mesh filename="coacd_convex_piece_32.obj" scale="1.0000E+00 1.0000E+00 1.0000E+00"/>
      </geometry>
      <material name="">
        <color rgba="7.50E-01 7.50E-01 7.50E-01 1"/>
      </material>
    </visual>
    <collision>
      <origin xyz="0 0 0" rpy="0 0 0"/>
      <geometry>
        <mesh filename="coacd_convex_piece_32.obj" scale="1.0000E+00 1.0000E+00 1.0000E+00"/>
      </geometry>
    </collision>
  </link>
  <joint name="link_coacd_convex_piece_32_joint" type="fixed">
    <origin xyz="0 0 0" rpy="0 0 0"/>
    <parent link="link_coacd_convex_piece_31"/>
    <child link="link_coacd_convex_piece_32"/>
  </joint>
  <link name="link_coacd_convex_piece_33">
    <inertial>
      <origin xyz="0 0 0" rpy="0 0 0"/>
      <inertia ixx="7.82E-09" ixy="-4.16E-10" ixz="-1.00E-09" iyy="6.85E-09" iyz="-2.74E-09" izz="1.30E-09"/>
    </inertial>
    <visual>
      <origin xyz="0 0 0" rpy="0 0 0"/>
      <geometry>
        <mesh filename="coacd_convex_piece_33.obj" scale="1.0000E+00 1.0000E+00 1.0000E+00"/>
      </geometry>
      <material name="">
        <color rgba="7.50E-01 7.50E-01 7.50E-01 1"/>
      </material>
    </visual>
    <collision>
      <origin xyz="0 0 0" rpy="0 0 0"/>
      <geometry>
        <mesh filename="coacd_convex_piece_33.obj" scale="1.0000E+00 1.0000E+00 1.0000E+00"/>
      </geometry>
    </collision>
  </link>
  <joint name="link_coacd_convex_piece_33_joint" type="fixed">
    <origin xyz="0 0 0" rpy="0 0 0"/>
    <parent link="link_coacd_convex_piece_32"/>
    <child link="link_coacd_convex_piece_33"/>
  </joint>
  <link name="link_coacd_convex_piece_34">
    <inertial>
      <origin xyz="0 0 0" rpy="0 0 0"/>
      <inertia ixx="9.90E-10" ixy="3.59E-11" ixz="-9.31E-11" iyy="9.01E-10" iyz="2.25E-10" izz="1.21E-10"/>
    </inertial>
    <visual>
      <origin xyz="0 0 0" rpy="0 0 0"/>
      <geometry>
        <mesh filename="coacd_convex_piece_34.obj" scale="1.0000E+00 1.0000E+00 1.0000E+00"/>
      </geometry>
      <material name="">
        <color rgba="7.50E-01 7.50E-01 7.50E-01 1"/>
      </material>
    </visual>
    <collision>
      <origin xyz="0 0 0" rpy="0 0 0"/>
      <geometry>
        <mesh filename="coacd_convex_piece_34.obj" scale="1.0000E+00 1.0000E+00 1.0000E+00"/>
      </geometry>
    </collision>
  </link>
  <joint name="link_coacd_convex_piece_34_joint" type="fixed">
    <origin xyz="0 0 0" rpy="0 0 0"/>
    <parent link="link_coacd_convex_piece_33"/>
    <child link="link_coacd_convex_piece_34"/>
  </joint>
  <link name="link_coacd_convex_piece_35">
    <inertial>
      <origin xyz="0 0 0" rpy="0 0 0"/>
      <inertia ixx="5.86E-08" ixy="8.68E-11" ixz="-2.09E-10" iyy="4.91E-08" iyz="2.14E-08" izz="9.71E-09"/>
    </inertial>
    <visual>
      <origin xyz="0 0 0" rpy="0 0 0"/>
      <geometry>
        <mesh filename="coacd_convex_piece_35.obj" scale="1.0000E+00 1.0000E+00 1.0000E+00"/>
      </geometry>
      <material name="">
        <color rgba="7.50E-01 7.50E-01 7.50E-01 1"/>
      </material>
    </visual>
    <collision>
      <origin xyz="0 0 0" rpy="0 0 0"/>
      <geometry>
        <mesh filename="coacd_convex_piece_35.obj" scale="1.0000E+00 1.0000E+00 1.0000E+00"/>
      </geometry>
    </collision>
  </link>
  <joint name="link_coacd_convex_piece_35_joint" type="fixed">
    <origin xyz="0 0 0" rpy="0 0 0"/>
    <parent link="link_coacd_convex_piece_34"/>
    <child link="link_coacd_convex_piece_35"/>
  </joint>
  <link name="link_coacd_convex_piece_36">
    <inertial>
      <origin xyz="0 0 0" rpy="0 0 0"/>
      <inertia ixx="1.43E-09" ixy="4.18E-11" ixz="7.13E-10" iyy="1.89E-09" iyz="-7.27E-11" izz="6.25E-10"/>
    </inertial>
    <visual>
      <origin xyz="0 0 0" rpy="0 0 0"/>
      <geometry>
        <mesh filename="coacd_convex_piece_36.obj" scale="1.0000E+00 1.0000E+00 1.0000E+00"/>
      </geometry>
      <material name="">
        <color rgba="7.50E-01 7.50E-01 7.50E-01 1"/>
      </material>
    </visual>
    <collision>
      <origin xyz="0 0 0" rpy="0 0 0"/>
      <geometry>
        <mesh filename="coacd_convex_piece_36.obj" scale="1.0000E+00 1.0000E+00 1.0000E+00"/>
      </geometry>
    </collision>
  </link>
  <joint name="link_coacd_convex_piece_36_joint" type="fixed">
    <origin xyz="0 0 0" rpy="0 0 0"/>
    <parent link="link_coacd_convex_piece_35"/>
    <child link="link_coacd_convex_piece_36"/>
  </joint>
  <link name="link_coacd_convex_piece_37">
    <inertial>
      <origin xyz="0 0 0" rpy="0 0 0"/>
      <inertia ixx="2.67E-08" ixy="-4.23E-10" ixz="1.04E-09" iyy="2.30E-08" iyz="8.77E-09" izz="3.75E-09"/>
    </inertial>
    <visual>
      <origin xyz="0 0 0" rpy="0 0 0"/>
      <geometry>
        <mesh filename="coacd_convex_piece_37.obj" scale="1.0000E+00 1.0000E+00 1.0000E+00"/>
      </geometry>
      <material name="">
        <color rgba="7.50E-01 7.50E-01 7.50E-01 1"/>
      </material>
    </visual>
    <collision>
      <origin xyz="0 0 0" rpy="0 0 0"/>
      <geometry>
        <mesh filename="coacd_convex_piece_37.obj" scale="1.0000E+00 1.0000E+00 1.0000E+00"/>
      </geometry>
    </collision>
  </link>
  <joint name="link_coacd_convex_piece_37_joint" type="fixed">
    <origin xyz="0 0 0" rpy="0 0 0"/>
    <parent link="link_coacd_convex_piece_36"/>
    <child link="link_coacd_convex_piece_37"/>
  </joint>
  <link name="link_coacd_convex_piece_38">
    <inertial>
      <origin xyz="0 0 0" rpy="0 0 0"/>
      <inertia ixx="1.47E-09" ixy="-3.03E-10" ixz="-2.61E-10" iyy="7.72E-10" iyz="-7.17E-10" izz="9.42E-10"/>
    </inertial>
    <visual>
      <origin xyz="0 0 0" rpy="0 0 0"/>
      <geometry>
        <mesh filename="coacd_convex_piece_38.obj" scale="1.0000E+00 1.0000E+00 1.0000E+00"/>
      </geometry>
      <material name="">
        <color rgba="7.50E-01 7.50E-01 7.50E-01 1"/>
      </material>
    </visual>
    <collision>
      <origin xyz="0 0 0" rpy="0 0 0"/>
      <geometry>
        <mesh filename="coacd_convex_piece_38.obj" scale="1.0000E+00 1.0000E+00 1.0000E+00"/>
      </geometry>
    </collision>
  </link>
  <joint name="link_coacd_convex_piece_38_joint" type="fixed">
    <origin xyz="0 0 0" rpy="0 0 0"/>
    <parent link="link_coacd_convex_piece_37"/>
    <child link="link_coacd_convex_piece_38"/>
  </joint>
  <link name="link_coacd_convex_piece_39">
    <inertial>
      <origin xyz="0 0 0" rpy="0 0 0"/>
      <inertia ixx="2.93E-08" ixy="-5.89E-10" ixz="4.61E-09" iyy="2.89E-08" iyz="3.52E-09" izz="2.01E-09"/>
    </inertial>
    <visual>
      <origin xyz="0 0 0" rpy="0 0 0"/>
      <geometry>
        <mesh filename="coacd_convex_piece_39.obj" scale="1.0000E+00 1.0000E+00 1.0000E+00"/>
      </geometry>
      <material name="">
        <color rgba="7.50E-01 7.50E-01 7.50E-01 1"/>
      </material>
    </visual>
    <collision>
      <origin xyz="0 0 0" rpy="0 0 0"/>
      <geometry>
        <mesh filename="coacd_convex_piece_39.obj" scale="1.0000E+00 1.0000E+00 1.0000E+00"/>
      </geometry>
    </collision>
  </link>
  <joint name="link_coacd_convex_piece_39_joint" type="fixed">
    <origin xyz="0 0 0" rpy="0 0 0"/>
    <parent link="link_coacd_convex_piece_38"/>
    <child link="link_coacd_convex_piece_39"/>
  </joint>
  <link name="link_coacd_convex_piece_40">
    <inertial>
      <origin xyz="0 0 0" rpy="0 0 0"/>
      <inertia ixx="1.56E-09" ixy="-1.09E-11" ixz="-7.93E-12" iyy="6.65E-10" iyz="-6.77E-10" izz="8.95E-10"/>
    </inertial>
    <visual>
      <origin xyz="0 0 0" rpy="0 0 0"/>
      <geometry>
        <mesh filename="coacd_convex_piece_40.obj" scale="1.0000E+00 1.0000E+00 1.0000E+00"/>
      </geometry>
      <material name="">
        <color rgba="7.50E-01 7.50E-01 7.50E-01 1"/>
      </material>
    </visual>
    <collision>
      <origin xyz="0 0 0" rpy="0 0 0"/>
      <geometry>
        <mesh filename="coacd_convex_piece_40.obj" scale="1.0000E+00 1.0000E+00 1.0000E+00"/>
      </geometry>
    </collision>
  </link>
  <joint name="link_coacd_convex_piece_40_joint" type="fixed">
    <origin xyz="0 0 0" rpy="0 0 0"/>
    <parent link="link_coacd_convex_piece_39"/>
    <child link="link_coacd_convex_piece_40"/>
  </joint>
  <link name="link_coacd_convex_piece_41">
    <inertial>
      <origin xyz="0 0 0" rpy="0 0 0"/>
      <inertia ixx="3.65E-08" ixy="-2.80E-10" ixz="-1.35E-09" iyy="3.46E-08" iyz="-6.75E-09" izz="2.05E-09"/>
    </inertial>
    <visual>
      <origin xyz="0 0 0" rpy="0 0 0"/>
      <geometry>
        <mesh filename="coacd_convex_piece_41.obj" scale="1.0000E+00 1.0000E+00 1.0000E+00"/>
      </geometry>
      <material name="">
        <color rgba="7.50E-01 7.50E-01 7.50E-01 1"/>
      </material>
    </visual>
    <collision>
      <origin xyz="0 0 0" rpy="0 0 0"/>
      <geometry>
        <mesh filename="coacd_convex_piece_41.obj" scale="1.0000E+00 1.0000E+00 1.0000E+00"/>
      </geometry>
    </collision>
  </link>
  <joint name="link_coacd_convex_piece_41_joint" type="fixed">
    <origin xyz="0 0 0" rpy="0 0 0"/>
    <parent link="link_coacd_convex_piece_40"/>
    <child link="link_coacd_convex_piece_41"/>
  </joint>
  <link name="link_coacd_convex_piece_42">
    <inertial>
      <origin xyz="0 0 0" rpy="0 0 0"/>
      <inertia ixx="9.41E-09" ixy="5.02E-10" ixz="-1.54E-09" iyy="8.73E-09" iyz="2.73E-09" izz="1.30E-09"/>
    </inertial>
    <visual>
      <origin xyz="0 0 0" rpy="0 0 0"/>
      <geometry>
        <mesh filename="coacd_convex_piece_42.obj" scale="1.0000E+00 1.0000E+00 1.0000E+00"/>
      </geometry>
      <material name="">
        <color rgba="7.50E-01 7.50E-01 7.50E-01 1"/>
      </material>
    </visual>
    <collision>
      <origin xyz="0 0 0" rpy="0 0 0"/>
      <geometry>
        <mesh filename="coacd_convex_piece_42.obj" scale="1.0000E+00 1.0000E+00 1.0000E+00"/>
      </geometry>
    </collision>
  </link>
  <joint name="link_coacd_convex_piece_42_joint" type="fixed">
    <origin xyz="0 0 0" rpy="0 0 0"/>
    <parent link="link_coacd_convex_piece_41"/>
    <child link="link_coacd_convex_piece_42"/>
  </joint>
  <link name="link_coacd_convex_piece_43">
    <inertial>
      <origin xyz="0 0 0" rpy="0 0 0"/>
      <inertia ixx="2.64E-08" ixy="-9.49E-10" ixz="-2.32E-09" iyy="2.30E-08" iyz="-8.51E-09" izz="3.86E-09"/>
    </inertial>
    <visual>
      <origin xyz="0 0 0" rpy="0 0 0"/>
      <geometry>
        <mesh filename="coacd_convex_piece_43.obj" scale="1.0000E+00 1.0000E+00 1.0000E+00"/>
      </geometry>
      <material name="">
        <color rgba="7.50E-01 7.50E-01 7.50E-01 1"/>
      </material>
    </visual>
    <collision>
      <origin xyz="0 0 0" rpy="0 0 0"/>
      <geometry>
        <mesh filename="coacd_convex_piece_43.obj" scale="1.0000E+00 1.0000E+00 1.0000E+00"/>
      </geometry>
    </collision>
  </link>
  <joint name="link_coacd_convex_piece_43_joint" type="fixed">
    <origin xyz="0 0 0" rpy="0 0 0"/>
    <parent link="link_coacd_convex_piece_42"/>
    <child link="link_coacd_convex_piece_43"/>
  </joint>
  <link name="link_coacd_convex_piece_44">
    <inertial>
      <origin xyz="0 0 0" rpy="0 0 0"/>
      <inertia ixx="2.63E-08" ixy="-3.41E-10" ixz="-2.54E-09" iyy="2.61E-08" iyz="-3.32E-09" izz="8.35E-10"/>
    </inertial>
    <visual>
      <origin xyz="0 0 0" rpy="0 0 0"/>
      <geometry>
        <mesh filename="coacd_convex_piece_44.obj" scale="1.0000E+00 1.0000E+00 1.0000E+00"/>
      </geometry>
      <material name="">
        <color rgba="7.50E-01 7.50E-01 7.50E-01 1"/>
      </material>
    </visual>
    <collision>
      <origin xyz="0 0 0" rpy="0 0 0"/>
      <geometry>
        <mesh filename="coacd_convex_piece_44.obj" scale="1.0000E+00 1.0000E+00 1.0000E+00"/>
      </geometry>
    </collision>
  </link>
  <joint name="link_coacd_convex_piece_44_joint" type="fixed">
    <origin xyz="0 0 0" rpy="0 0 0"/>
    <parent link="link_coacd_convex_piece_43"/>
    <child link="link_coacd_convex_piece_44"/>
  </joint>
  <link name="link_coacd_convex_piece_45">
    <inertial>
      <origin xyz="0 0 0" rpy="0 0 0"/>
      <inertia ixx="5.41E-14" ixy="-3.81E-15" ixz="5.05E-15" iyy="3.53E-14" iyz="2.60E-14" izz="2.03E-14"/>
    </inertial>
    <visual>
      <origin xyz="0 0 0" rpy="0 0 0"/>
      <geometry>
        <mesh filename="coacd_convex_piece_45.obj" scale="1.0000E+00 1.0000E+00 1.0000E+00"/>
      </geometry>
      <material name="">
        <color rgba="7.50E-01 7.50E-01 7.50E-01 1"/>
      </material>
    </visual>
    <collision>
      <origin xyz="0 0 0" rpy="0 0 0"/>
      <geometry>
        <mesh filename="coacd_convex_piece_45.obj" scale="1.0000E+00 1.0000E+00 1.0000E+00"/>
      </geometry>
    </collision>
  </link>
  <joint name="link_coacd_convex_piece_45_joint" type="fixed">
    <origin xyz="0 0 0" rpy="0 0 0"/>
    <parent link="link_coacd_convex_piece_44"/>
    <child link="link_coacd_convex_piece_45"/>
  </joint>
  <link name="link_coacd_convex_piece_46">
    <inertial>
      <origin xyz="0 0 0" rpy="0 0 0"/>
      <inertia ixx="1.65E-09" ixy="6.04E-12" ixz="-5.93E-11" iyy="6.68E-10" iyz="3.39E-10" izz="1.01E-09"/>
    </inertial>
    <visual>
      <origin xyz="0 0 0" rpy="0 0 0"/>
      <geometry>
        <mesh filename="coacd_convex_piece_46.obj" scale="1.0000E+00 1.0000E+00 1.0000E+00"/>
      </geometry>
      <material name="">
        <color rgba="7.50E-01 7.50E-01 7.50E-01 1"/>
      </material>
    </visual>
    <collision>
      <origin xyz="0 0 0" rpy="0 0 0"/>
      <geometry>
        <mesh filename="coacd_convex_piece_46.obj" scale="1.0000E+00 1.0000E+00 1.0000E+00"/>
      </geometry>
    </collision>
  </link>
  <joint name="link_coacd_convex_piece_46_joint" type="fixed">
    <origin xyz="0 0 0" rpy="0 0 0"/>
    <parent link="link_coacd_convex_piece_45"/>
    <child link="link_coacd_convex_piece_46"/>
  </joint>
  <link name="link_coacd_convex_piece_47">
    <inertial>
      <origin xyz="0 0 0" rpy="0 0 0"/>
      <inertia ixx="2.23E-10" ixy="-4.19E-11" ixz="7.97E-11" iyy="2.08E-10" iyz="8.55E-11" izz="9.80E-11"/>
    </inertial>
    <visual>
      <origin xyz="0 0 0" rpy="0 0 0"/>
      <geometry>
        <mesh filename="coacd_convex_piece_47.obj" scale="1.0000E+00 1.0000E+00 1.0000E+00"/>
      </geometry>
      <material name="">
        <color rgba="7.50E-01 7.50E-01 7.50E-01 1"/>
      </material>
    </visual>
    <collision>
      <origin xyz="0 0 0" rpy="0 0 0"/>
      <geometry>
        <mesh filename="coacd_convex_piece_47.obj" scale="1.0000E+00 1.0000E+00 1.0000E+00"/>
      </geometry>
    </collision>
  </link>
  <joint name="link_coacd_convex_piece_47_joint" type="fixed">
    <origin xyz="0 0 0" rpy="0 0 0"/>
    <parent link="link_coacd_convex_piece_46"/>
    <child link="link_coacd_convex_piece_47"/>
  </joint>
  <link name="link_coacd_convex_piece_48">
    <inertial>
      <origin xyz="0 0 0" rpy="0 0 0"/>
      <inertia ixx="1.02E-08" ixy="2.34E-11" ixz="6.38E-11" iyy="8.67E-09" iyz="-3.61E-09" izz="1.54E-09"/>
    </inertial>
    <visual>
      <origin xyz="0 0 0" rpy="0 0 0"/>
      <geometry>
        <mesh filename="coacd_convex_piece_48.obj" scale="1.0000E+00 1.0000E+00 1.0000E+00"/>
      </geometry>
      <material name="">
        <color rgba="7.50E-01 7.50E-01 7.50E-01 1"/>
      </material>
    </visual>
    <collision>
      <origin xyz="0 0 0" rpy="0 0 0"/>
      <geometry>
        <mesh filename="coacd_convex_piece_48.obj" scale="1.0000E+00 1.0000E+00 1.0000E+00"/>
      </geometry>
    </collision>
  </link>
  <joint name="link_coacd_convex_piece_48_joint" type="fixed">
    <origin xyz="0 0 0" rpy="0 0 0"/>
    <parent link="link_coacd_convex_piece_47"/>
    <child link="link_coacd_convex_piece_48"/>
  </joint>
  <link name="link_coacd_convex_piece_49">
    <inertial>
      <origin xyz="0 0 0" rpy="0 0 0"/>
      <inertia ixx="2.12E-10" ixy="9.96E-12" ixz="1.57E-11" iyy="2.06E-10" iyz="-2.07E-11" izz="2.24E-11"/>
    </inertial>
    <visual>
      <origin xyz="0 0 0" rpy="0 0 0"/>
      <geometry>
        <mesh filename="coacd_convex_piece_49.obj" scale="1.0000E+00 1.0000E+00 1.0000E+00"/>
      </geometry>
      <material name="">
        <color rgba="7.50E-01 7.50E-01 7.50E-01 1"/>
      </material>
    </visual>
    <collision>
      <origin xyz="0 0 0" rpy="0 0 0"/>
      <geometry>
        <mesh filename="coacd_convex_piece_49.obj" scale="1.0000E+00 1.0000E+00 1.0000E+00"/>
      </geometry>
    </collision>
  </link>
  <joint name="link_coacd_convex_piece_49_joint" type="fixed">
    <origin xyz="0 0 0" rpy="0 0 0"/>
    <parent link="link_coacd_convex_piece_48"/>
    <child link="link_coacd_convex_piece_49"/>
  </joint>
  <link name="link_coacd_convex_piece_50">
    <inertial>
      <origin xyz="0 0 0" rpy="0 0 0"/>
      <inertia ixx="2.19E-08" ixy="-1.72E-11" ixz="-7.27E-11" iyy="2.07E-08" iyz="-4.35E-09" izz="1.14E-09"/>
    </inertial>
    <visual>
      <origin xyz="0 0 0" rpy="0 0 0"/>
      <geometry>
        <mesh filename="coacd_convex_piece_50.obj" scale="1.0000E+00 1.0000E+00 1.0000E+00"/>
      </geometry>
      <material name="">
        <color rgba="7.50E-01 7.50E-01 7.50E-01 1"/>
      </material>
    </visual>
    <collision>
      <origin xyz="0 0 0" rpy="0 0 0"/>
      <geometry>
        <mesh filename="coacd_convex_piece_50.obj" scale="1.0000E+00 1.0000E+00 1.0000E+00"/>
      </geometry>
    </collision>
  </link>
  <joint name="link_coacd_convex_piece_50_joint" type="fixed">
    <origin xyz="0 0 0" rpy="0 0 0"/>
    <parent link="link_coacd_convex_piece_49"/>
    <child link="link_coacd_convex_piece_50"/>
  </joint>
  <link name="link_coacd_convex_piece_51">
    <inertial>
      <origin xyz="0 0 0" rpy="0 0 0"/>
      <inertia ixx="3.27E-08" ixy="-1.07E-10" ixz="1.19E-09" iyy="3.23E-08" iyz="2.82E-09" izz="4.22E-10"/>
    </inertial>
    <visual>
      <origin xyz="0 0 0" rpy="0 0 0"/>
      <geometry>
        <mesh filename="coacd_convex_piece_51.obj" scale="1.0000E+00 1.0000E+00 1.0000E+00"/>
      </geometry>
      <material name="">
        <color rgba="7.50E-01 7.50E-01 7.50E-01 1"/>
      </material>
    </visual>
    <collision>
      <origin xyz="0 0 0" rpy="0 0 0"/>
      <geometry>
        <mesh filename="coacd_convex_piece_51.obj" scale="1.0000E+00 1.0000E+00 1.0000E+00"/>
      </geometry>
    </collision>
  </link>
  <joint name="link_coacd_convex_piece_51_joint" type="fixed">
    <origin xyz="0 0 0" rpy="0 0 0"/>
    <parent link="link_coacd_convex_piece_50"/>
    <child link="link_coacd_convex_piece_51"/>
  </joint>
  <link name="link_coacd_convex_piece_52">
    <inertial>
      <origin xyz="0 0 0" rpy="0 0 0"/>
      <inertia ixx="1.56E-09" ixy="-6.91E-11" ixz="1.70E-10" iyy="1.38E-09" iyz="3.04E-10" izz="2.69E-10"/>
    </inertial>
    <visual>
      <origin xyz="0 0 0" rpy="0 0 0"/>
      <geometry>
        <mesh filename="coacd_convex_piece_52.obj" scale="1.0000E+00 1.0000E+00 1.0000E+00"/>
      </geometry>
      <material name="">
        <color rgba="7.50E-01 7.50E-01 7.50E-01 1"/>
      </material>
    </visual>
    <collision>
      <origin xyz="0 0 0" rpy="0 0 0"/>
      <geometry>
        <mesh filename="coacd_convex_piece_52.obj" scale="1.0000E+00 1.0000E+00 1.0000E+00"/>
      </geometry>
    </collision>
  </link>
  <joint name="link_coacd_convex_piece_52_joint" type="fixed">
    <origin xyz="0 0 0" rpy="0 0 0"/>
    <parent link="link_coacd_convex_piece_51"/>
    <child link="link_coacd_convex_piece_52"/>
  </joint>
  <link name="link_coacd_convex_piece_53">
    <inertial>
      <origin xyz="0 0 0" rpy="0 0 0"/>
      <inertia ixx="2.43E-09" ixy="1.64E-10" ixz="1.36E-10" iyy="1.05E-09" iyz="-1.14E-09" izz="1.43E-09"/>
    </inertial>
    <visual>
      <origin xyz="0 0 0" rpy="0 0 0"/>
      <geometry>
        <mesh filename="coacd_convex_piece_53.obj" scale="1.0000E+00 1.0000E+00 1.0000E+00"/>
      </geometry>
      <material name="">
        <color rgba="7.50E-01 7.50E-01 7.50E-01 1"/>
      </material>
    </visual>
    <collision>
      <origin xyz="0 0 0" rpy="0 0 0"/>
      <geometry>
        <mesh filename="coacd_convex_piece_53.obj" scale="1.0000E+00 1.0000E+00 1.0000E+00"/>
      </geometry>
    </collision>
  </link>
  <joint name="link_coacd_convex_piece_53_joint" type="fixed">
    <origin xyz="0 0 0" rpy="0 0 0"/>
    <parent link="link_coacd_convex_piece_52"/>
    <child link="link_coacd_convex_piece_53"/>
  </joint>
  <link name="link_coacd_convex_piece_54">
    <inertial>
      <origin xyz="0 0 0" rpy="0 0 0"/>
      <inertia ixx="9.92E-10" ixy="-1.55E-11" ixz="-7.33E-11" iyy="9.85E-10" iyz="-4.16E-11" izz="4.73E-11"/>
    </inertial>
    <visual>
      <origin xyz="0 0 0" rpy="0 0 0"/>
      <geometry>
        <mesh filename="coacd_convex_piece_54.obj" scale="1.0000E+00 1.0000E+00 1.0000E+00"/>
      </geometry>
      <material name="">
        <color rgba="7.50E-01 7.50E-01 7.50E-01 1"/>
      </material>
    </visual>
    <collision>
      <origin xyz="0 0 0" rpy="0 0 0"/>
      <geometry>
        <mesh filename="coacd_convex_piece_54.obj" scale="1.0000E+00 1.0000E+00 1.0000E+00"/>
      </geometry>
    </collision>
  </link>
  <joint name="link_coacd_convex_piece_54_joint" type="fixed">
    <origin xyz="0 0 0" rpy="0 0 0"/>
    <parent link="link_coacd_convex_piece_53"/>
    <child link="link_coacd_convex_piece_54"/>
  </joint>
  <link name="link_coacd_convex_piece_55">
    <inertial>
      <origin xyz="0 0 0" rpy="0 0 0"/>
      <inertia ixx="1.84E-08" ixy="4.66E-12" ixz="-7.51E-11" iyy="1.82E-08" iyz="1.24E-09" izz="2.00E-10"/>
    </inertial>
    <visual>
      <origin xyz="0 0 0" rpy="0 0 0"/>
      <geometry>
        <mesh filename="coacd_convex_piece_55.obj" scale="1.0000E+00 1.0000E+00 1.0000E+00"/>
      </geometry>
      <material name="">
        <color rgba="7.50E-01 7.50E-01 7.50E-01 1"/>
      </material>
    </visual>
    <collision>
      <origin xyz="0 0 0" rpy="0 0 0"/>
      <geometry>
        <mesh filename="coacd_convex_piece_55.obj" scale="1.0000E+00 1.0000E+00 1.0000E+00"/>
      </geometry>
    </collision>
  </link>
  <joint name="link_coacd_convex_piece_55_joint" type="fixed">
    <origin xyz="0 0 0" rpy="0 0 0"/>
    <parent link="link_coacd_convex_piece_54"/>
    <child link="link_coacd_convex_piece_55"/>
  </joint>
  <link name="link_coacd_convex_piece_56">
    <inertial>
      <origin xyz="0 0 0" rpy="0 0 0"/>
      <inertia ixx="1.56E-09" ixy="1.55E-10" ixz="-4.28E-11" iyy="2.25E-10" iyz="3.39E-10" izz="1.38E-09"/>
    </inertial>
    <visual>
      <origin xyz="0 0 0" rpy="0 0 0"/>
      <geometry>
        <mesh filename="coacd_convex_piece_56.obj" scale="1.0000E+00 1.0000E+00 1.0000E+00"/>
      </geometry>
      <material name="">
        <color rgba="7.50E-01 7.50E-01 7.50E-01 1"/>
      </material>
    </visual>
    <collision>
      <origin xyz="0 0 0" rpy="0 0 0"/>
      <geometry>
        <mesh filename="coacd_convex_piece_56.obj" scale="1.0000E+00 1.0000E+00 1.0000E+00"/>
      </geometry>
    </collision>
  </link>
  <joint name="link_coacd_convex_piece_56_joint" type="fixed">
    <origin xyz="0 0 0" rpy="0 0 0"/>
    <parent link="link_coacd_convex_piece_55"/>
    <child link="link_coacd_convex_piece_56"/>
  </joint>
  <link name="link_coacd_convex_piece_57">
    <inertial>
      <origin xyz="0 0 0" rpy="0 0 0"/>
      <inertia ixx="1.16E-09" ixy="2.89E-12" ixz="-1.19E-11" iyy="1.05E-09" iyz="1.64E-10" izz="1.14E-10"/>
    </inertial>
    <visual>
      <origin xyz="0 0 0" rpy="0 0 0"/>
      <geometry>
        <mesh filename="coacd_convex_piece_57.obj" scale="1.0000E+00 1.0000E+00 1.0000E+00"/>
      </geometry>
      <material name="">
        <color rgba="7.50E-01 7.50E-01 7.50E-01 1"/>
      </material>
    </visual>
    <collision>
      <origin xyz="0 0 0" rpy="0 0 0"/>
      <geometry>
        <mesh filename="coacd_convex_piece_57.obj" scale="1.0000E+00 1.0000E+00 1.0000E+00"/>
      </geometry>
    </collision>
  </link>
  <joint name="link_coacd_convex_piece_57_joint" type="fixed">
    <origin xyz="0 0 0" rpy="0 0 0"/>
    <parent link="link_coacd_convex_piece_56"/>
    <child link="link_coacd_convex_piece_57"/>
  </joint>
  <link name="link_coacd_convex_piece_58">
    <inertial>
      <origin xyz="0 0 0" rpy="0 0 0"/>
      <inertia ixx="1.41E-08" ixy="2.67E-10" ixz="6.02E-10" iyy="1.18E-08" iyz="-5.08E-09" izz="2.35E-09"/>
    </inertial>
    <visual>
      <origin xyz="0 0 0" rpy="0 0 0"/>
      <geometry>
        <mesh filename="coacd_convex_piece_58.obj" scale="1.0000E+00 1.0000E+00 1.0000E+00"/>
      </geometry>
      <material name="">
        <color rgba="7.50E-01 7.50E-01 7.50E-01 1"/>
      </material>
    </visual>
    <collision>
      <origin xyz="0 0 0" rpy="0 0 0"/>
      <geometry>
        <mesh filename="coacd_convex_piece_58.obj" scale="1.0000E+00 1.0000E+00 1.0000E+00"/>
      </geometry>
    </collision>
  </link>
  <joint name="link_coacd_convex_piece_58_joint" type="fixed">
    <origin xyz="0 0 0" rpy="0 0 0"/>
    <parent link="link_coacd_convex_piece_57"/>
    <child link="link_coacd_convex_piece_58"/>
  </joint>
  <link name="link_coacd_convex_piece_59">
    <inertial>
      <origin xyz="0 0 0" rpy="0 0 0"/>
      <inertia ixx="9.69E-11" ixy="7.67E-12" ixz="1.45E-11" iyy="7.57E-11" iyz="-3.94E-11" izz="2.74E-11"/>
    </inertial>
    <visual>
      <origin xyz="0 0 0" rpy="0 0 0"/>
      <geometry>
        <mesh filename="coacd_convex_piece_59.obj" scale="1.0000E+00 1.0000E+00 1.0000E+00"/>
      </geometry>
      <material name="">
        <color rgba="7.50E-01 7.50E-01 7.50E-01 1"/>
      </material>
    </visual>
    <collision>
      <origin xyz="0 0 0" rpy="0 0 0"/>
      <geometry>
        <mesh filename="coacd_convex_piece_59.obj" scale="1.0000E+00 1.0000E+00 1.0000E+00"/>
      </geometry>
    </collision>
  </link>
  <joint name="link_coacd_convex_piece_59_joint" type="fixed">
    <origin xyz="0 0 0" rpy="0 0 0"/>
    <parent link="link_coacd_convex_piece_58"/>
    <child link="link_coacd_convex_piece_59"/>
  </joint>
  <link name="link_coacd_convex_piece_60">
    <inertial>
      <origin xyz="0 0 0" rpy="0 0 0"/>
      <inertia ixx="1.85E-09" ixy="-4.24E-10" ixz="1.02E-10" iyy="3.54E-10" iyz="3.47E-10" izz="1.74E-09"/>
    </inertial>
    <visual>
      <origin xyz="0 0 0" rpy="0 0 0"/>
      <geometry>
        <mesh filename="coacd_convex_piece_60.obj" scale="1.0000E+00 1.0000E+00 1.0000E+00"/>
      </geometry>
      <material name="">
        <color rgba="7.50E-01 7.50E-01 7.50E-01 1"/>
      </material>
    </visual>
    <collision>
      <origin xyz="0 0 0" rpy="0 0 0"/>
      <geometry>
        <mesh filename="coacd_convex_piece_60.obj" scale="1.0000E+00 1.0000E+00 1.0000E+00"/>
      </geometry>
    </collision>
  </link>
  <joint name="link_coacd_convex_piece_60_joint" type="fixed">
    <origin xyz="0 0 0" rpy="0 0 0"/>
    <parent link="link_coacd_convex_piece_59"/>
    <child link="link_coacd_convex_piece_60"/>
  </joint>
  <link name="link_coacd_convex_piece_61">
    <inertial>
      <origin xyz="0 0 0" rpy="0 0 0"/>
      <inertia ixx="4.60E-09" ixy="-9.37E-12" ixz="-2.44E-11" iyy="4.00E-09" iyz="-1.44E-09" izz="6.07E-10"/>
    </inertial>
    <visual>
      <origin xyz="0 0 0" rpy="0 0 0"/>
      <geometry>
        <mesh filename="coacd_convex_piece_61.obj" scale="1.0000E+00 1.0000E+00 1.0000E+00"/>
      </geometry>
      <material name="">
        <color rgba="7.50E-01 7.50E-01 7.50E-01 1"/>
      </material>
    </visual>
    <collision>
      <origin xyz="0 0 0" rpy="0 0 0"/>
      <geometry>
        <mesh filename="coacd_convex_piece_61.obj" scale="1.0000E+00 1.0000E+00 1.0000E+00"/>
      </geometry>
    </collision>
  </link>
  <joint name="link_coacd_convex_piece_61_joint" type="fixed">
    <origin xyz="0 0 0" rpy="0 0 0"/>
    <parent link="link_coacd_convex_piece_60"/>
    <child link="link_coacd_convex_piece_61"/>
  </joint>
  <link name="link_coacd_convex_piece_62">
    <inertial>
      <origin xyz="0 0 0" rpy="0 0 0"/>
      <inertia ixx="1.49E-08" ixy="2.69E-11" ixz="-6.44E-11" iyy="1.27E-08" iyz="4.99E-09" izz="2.24E-09"/>
    </inertial>
    <visual>
      <origin xyz="0 0 0" rpy="0 0 0"/>
      <geometry>
        <mesh filename="coacd_convex_piece_62.obj" scale="1.0000E+00 1.0000E+00 1.0000E+00"/>
      </geometry>
      <material name="">
        <color rgba="7.50E-01 7.50E-01 7.50E-01 1"/>
      </material>
    </visual>
    <collision>
      <origin xyz="0 0 0" rpy="0 0 0"/>
      <geometry>
        <mesh filename="coacd_convex_piece_62.obj" scale="1.0000E+00 1.0000E+00 1.0000E+00"/>
      </geometry>
    </collision>
  </link>
  <joint name="link_coacd_convex_piece_62_joint" type="fixed">
    <origin xyz="0 0 0" rpy="0 0 0"/>
    <parent link="link_coacd_convex_piece_61"/>
    <child link="link_coacd_convex_piece_62"/>
  </joint>
  <link name="link_coacd_convex_piece_63">
    <inertial>
      <origin xyz="0 0 0" rpy="0 0 0"/>
      <inertia ixx="4.01E-09" ixy="-4.76E-11" ixz="-1.33E-11" iyy="5.25E-10" iyz="-7.46E-10" izz="3.55E-09"/>
    </inertial>
    <visual>
      <origin xyz="0 0 0" rpy="0 0 0"/>
      <geometry>
        <mesh filename="coacd_convex_piece_63.obj" scale="1.0000E+00 1.0000E+00 1.0000E+00"/>
      </geometry>
      <material name="">
        <color rgba="7.50E-01 7.50E-01 7.50E-01 1"/>
      </material>
    </visual>
    <collision>
      <origin xyz="0 0 0" rpy="0 0 0"/>
      <geometry>
        <mesh filename="coacd_convex_piece_63.obj" scale="1.0000E+00 1.0000E+00 1.0000E+00"/>
      </geometry>
    </collision>
  </link>
  <joint name="link_coacd_convex_piece_63_joint" type="fixed">
    <origin xyz="0 0 0" rpy="0 0 0"/>
    <parent link="link_coacd_convex_piece_62"/>
    <child link="link_coacd_convex_piece_63"/>
  </joint>
  <link name="link_coacd_convex_piece_64">
    <inertial>
      <origin xyz="0 0 0" rpy="0 0 0"/>
      <inertia ixx="2.96E-09" ixy="-1.98E-10" ixz="1.56E-10" iyy="1.23E-09" iyz="1.36E-09" izz="1.79E-09"/>
    </inertial>
    <visual>
      <origin xyz="0 0 0" rpy="0 0 0"/>
      <geometry>
        <mesh filename="coacd_convex_piece_64.obj" scale="1.0000E+00 1.0000E+00 1.0000E+00"/>
      </geometry>
      <material name="">
        <color rgba="7.50E-01 7.50E-01 7.50E-01 1"/>
      </material>
    </visual>
    <collision>
      <origin xyz="0 0 0" rpy="0 0 0"/>
      <geometry>
        <mesh filename="coacd_convex_piece_64.obj" scale="1.0000E+00 1.0000E+00 1.0000E+00"/>
      </geometry>
    </collision>
  </link>
  <joint name="link_coacd_convex_piece_64_joint" type="fixed">
    <origin xyz="0 0 0" rpy="0 0 0"/>
    <parent link="link_coacd_convex_piece_63"/>
    <child link="link_coacd_convex_piece_64"/>
  </joint>
  <link name="link_coacd_convex_piece_65">
    <inertial>
      <origin xyz="0 0 0" rpy="0 0 0"/>
      <inertia ixx="1.02E-08" ixy="-1.93E-11" ixz="6.08E-10" iyy="9.95E-09" iyz="2.91E-10" izz="3.77E-10"/>
    </inertial>
    <visual>
      <origin xyz="0 0 0" rpy="0 0 0"/>
      <geometry>
        <mesh filename="coacd_convex_piece_65.obj" scale="1.0000E+00 1.0000E+00 1.0000E+00"/>
      </geometry>
      <material name="">
        <color rgba="7.50E-01 7.50E-01 7.50E-01 1"/>
      </material>
    </visual>
    <collision>
      <origin xyz="0 0 0" rpy="0 0 0"/>
      <geometry>
        <mesh filename="coacd_convex_piece_65.obj" scale="1.0000E+00 1.0000E+00 1.0000E+00"/>
      </geometry>
    </collision>
  </link>
  <joint name="link_coacd_convex_piece_65_joint" type="fixed">
    <origin xyz="0 0 0" rpy="0 0 0"/>
    <parent link="link_coacd_convex_piece_64"/>
    <child link="link_coacd_convex_piece_65"/>
  </joint>
  <link name="link_coacd_convex_piece_66">
    <inertial>
      <origin xyz="0 0 0" rpy="0 0 0"/>
      <inertia ixx="7.79E-10" ixy="-1.18E-10" ixz="-2.22E-10" iyy="7.53E-10" iyz="-2.37E-10" izz="2.75E-10"/>
    </inertial>
    <visual>
      <origin xyz="0 0 0" rpy="0 0 0"/>
      <geometry>
        <mesh filename="coacd_convex_piece_66.obj" scale="1.0000E+00 1.0000E+00 1.0000E+00"/>
      </geometry>
      <material name="">
        <color rgba="7.50E-01 7.50E-01 7.50E-01 1"/>
      </material>
    </visual>
    <collision>
      <origin xyz="0 0 0" rpy="0 0 0"/>
      <geometry>
        <mesh filename="coacd_convex_piece_66.obj" scale="1.0000E+00 1.0000E+00 1.0000E+00"/>
      </geometry>
    </collision>
  </link>
  <joint name="link_coacd_convex_piece_66_joint" type="fixed">
    <origin xyz="0 0 0" rpy="0 0 0"/>
    <parent link="link_coacd_convex_piece_65"/>
    <child link="link_coacd_convex_piece_66"/>
  </joint>
  <link name="link_coacd_convex_piece_67">
    <inertial>
      <origin xyz="0 0 0" rpy="0 0 0"/>
      <inertia ixx="2.89E-09" ixy="4.55E-12" ixz="1.15E-10" iyy="2.89E-09" iyz="-1.24E-10" izz="1.09E-11"/>
    </inertial>
    <visual>
      <origin xyz="0 0 0" rpy="0 0 0"/>
      <geometry>
        <mesh filename="coacd_convex_piece_67.obj" scale="1.0000E+00 1.0000E+00 1.0000E+00"/>
      </geometry>
      <material name="">
        <color rgba="7.50E-01 7.50E-01 7.50E-01 1"/>
      </material>
    </visual>
    <collision>
      <origin xyz="0 0 0" rpy="0 0 0"/>
      <geometry>
        <mesh filename="coacd_convex_piece_67.obj" scale="1.0000E+00 1.0000E+00 1.0000E+00"/>
      </geometry>
    </collision>
  </link>
  <joint name="link_coacd_convex_piece_67_joint" type="fixed">
    <origin xyz="0 0 0" rpy="0 0 0"/>
    <parent link="link_coacd_convex_piece_66"/>
    <child link="link_coacd_convex_piece_67"/>
  </joint>
  <link name="link_coacd_convex_piece_68">
    <inertial>
      <origin xyz="0 0 0" rpy="0 0 0"/>
      <inertia ixx="2.96E-09" ixy="-1.57E-10" ixz="-1.74E-10" iyy="1.69E-09" iyz="-1.37E-09" izz="1.32E-09"/>
    </inertial>
    <visual>
      <origin xyz="0 0 0" rpy="0 0 0"/>
      <geometry>
        <mesh filename="coacd_convex_piece_68.obj" scale="1.0000E+00 1.0000E+00 1.0000E+00"/>
      </geometry>
      <material name="">
        <color rgba="7.50E-01 7.50E-01 7.50E-01 1"/>
      </material>
    </visual>
    <collision>
      <origin xyz="0 0 0" rpy="0 0 0"/>
      <geometry>
        <mesh filename="coacd_convex_piece_68.obj" scale="1.0000E+00 1.0000E+00 1.0000E+00"/>
      </geometry>
    </collision>
  </link>
  <joint name="link_coacd_convex_piece_68_joint" type="fixed">
    <origin xyz="0 0 0" rpy="0 0 0"/>
    <parent link="link_coacd_convex_piece_67"/>
    <child link="link_coacd_convex_piece_68"/>
  </joint>
  <link name="link_coacd_convex_piece_69">
    <inertial>
      <origin xyz="0 0 0" rpy="0 0 0"/>
      <inertia ixx="2.02E-09" ixy="-3.31E-10" ixz="-2.59E-10" iyy="8.83E-10" iyz="-9.40E-10" izz="1.33E-09"/>
    </inertial>
    <visual>
      <origin xyz="0 0 0" rpy="0 0 0"/>
      <geometry>
        <mesh filename="coacd_convex_piece_69.obj" scale="1.0000E+00 1.0000E+00 1.0000E+00"/>
      </geometry>
      <material name="">
        <color rgba="7.50E-01 7.50E-01 7.50E-01 1"/>
      </material>
    </visual>
    <collision>
      <origin xyz="0 0 0" rpy="0 0 0"/>
      <geometry>
        <mesh filename="coacd_convex_piece_69.obj" scale="1.0000E+00 1.0000E+00 1.0000E+00"/>
      </geometry>
    </collision>
  </link>
  <joint name="link_coacd_convex_piece_69_joint" type="fixed">
    <origin xyz="0 0 0" rpy="0 0 0"/>
    <parent link="link_coacd_convex_piece_68"/>
    <child link="link_coacd_convex_piece_69"/>
  </joint>
  <link name="link_coacd_convex_piece_70">
    <inertial>
      <origin xyz="0 0 0" rpy="0 0 0"/>
      <inertia ixx="2.78E-09" ixy="-1.66E-11" ixz="6.46E-10" iyy="2.94E-09" iyz="6.62E-11" izz="1.75E-10"/>
    </inertial>
    <visual>
      <origin xyz="0 0 0" rpy="0 0 0"/>
      <geometry>
        <mesh filename="coacd_convex_piece_70.obj" scale="1.0000E+00 1.0000E+00 1.0000E+00"/>
      </geometry>
      <material name="">
        <color rgba="7.50E-01 7.50E-01 7.50E-01 1"/>
      </material>
    </visual>
    <collision>
      <origin xyz="0 0 0" rpy="0 0 0"/>
      <geometry>
        <mesh filename="coacd_convex_piece_70.obj" scale="1.0000E+00 1.0000E+00 1.0000E+00"/>
      </geometry>
    </collision>
  </link>
  <joint name="link_coacd_convex_piece_70_joint" type="fixed">
    <origin xyz="0 0 0" rpy="0 0 0"/>
    <parent link="link_coacd_convex_piece_69"/>
    <child link="link_coacd_convex_piece_70"/>
  </joint>
  <link name="link_coacd_convex_piece_71">
    <inertial>
      <origin xyz="0 0 0" rpy="0 0 0"/>
      <inertia ixx="4.04E-10" ixy="-3.75E-12" ixz="-4.17E-12" iyy="2.34E-10" iyz="-1.82E-10" izz="1.70E-10"/>
    </inertial>
    <visual>
      <origin xyz="0 0 0" rpy="0 0 0"/>
      <geometry>
        <mesh filename="coacd_convex_piece_71.obj" scale="1.0000E+00 1.0000E+00 1.0000E+00"/>
      </geometry>
      <material name="">
        <color rgba="7.50E-01 7.50E-01 7.50E-01 1"/>
      </material>
    </visual>
    <collision>
      <origin xyz="0 0 0" rpy="0 0 0"/>
      <geometry>
        <mesh filename="coacd_convex_piece_71.obj" scale="1.0000E+00 1.0000E+00 1.0000E+00"/>
      </geometry>
    </collision>
  </link>
  <joint name="link_coacd_convex_piece_71_joint" type="fixed">
    <origin xyz="0 0 0" rpy="0 0 0"/>
    <parent link="link_coacd_convex_piece_70"/>
    <child link="link_coacd_convex_piece_71"/>
  </joint>
  <link name="link_coacd_convex_piece_72">
    <inertial>
      <origin xyz="0 0 0" rpy="0 0 0"/>
      <inertia ixx="8.80E-10" ixy="6.90E-12" ixz="-5.06E-12" iyy="3.12E-10" iyz="4.05E-10" izz="5.69E-10"/>
    </inertial>
    <visual>
      <origin xyz="0 0 0" rpy="0 0 0"/>
      <geometry>
        <mesh filename="coacd_convex_piece_72.obj" scale="1.0000E+00 1.0000E+00 1.0000E+00"/>
      </geometry>
      <material name="">
        <color rgba="7.50E-01 7.50E-01 7.50E-01 1"/>
      </material>
    </visual>
    <collision>
      <origin xyz="0 0 0" rpy="0 0 0"/>
      <geometry>
        <mesh filename="coacd_convex_piece_72.obj" scale="1.0000E+00 1.0000E+00 1.0000E+00"/>
      </geometry>
    </collision>
  </link>
  <joint name="link_coacd_convex_piece_72_joint" type="fixed">
    <origin xyz="0 0 0" rpy="0 0 0"/>
    <parent link="link_coacd_convex_piece_71"/>
    <child link="link_coacd_convex_piece_72"/>
  </joint>
  <link name="link_coacd_convex_piece_73">
    <inertial>
      <origin xyz="0 0 0" rpy="0 0 0"/>
      <inertia ixx="1.19E-09" ixy="-1.20E-10" ixz="3.79E-11" iyy="2.05E-10" iyz="2.53E-10" izz="1.02E-09"/>
    </inertial>
    <visual>
      <origin xyz="0 0 0" rpy="0 0 0"/>
      <geometry>
        <mesh filename="coacd_convex_piece_73.obj" scale="1.0000E+00 1.0000E+00 1.0000E+00"/>
      </geometry>
      <material name="">
        <color rgba="7.50E-01 7.50E-01 7.50E-01 1"/>
      </material>
    </visual>
    <collision>
      <origin xyz="0 0 0" rpy="0 0 0"/>
      <geometry>
        <mesh filename="coacd_convex_piece_73.obj" scale="1.0000E+00 1.0000E+00 1.0000E+00"/>
      </geometry>
    </collision>
  </link>
  <joint name="link_coacd_convex_piece_73_joint" type="fixed">
    <origin xyz="0 0 0" rpy="0 0 0"/>
    <parent link="link_coacd_convex_piece_72"/>
    <child link="link_coacd_convex_piece_73"/>
  </joint>
  <link name="link_coacd_convex_piece_74">
    <inertial>
      <origin xyz="0 0 0" rpy="0 0 0"/>
      <inertia ixx="1.14E-10" ixy="9.85E-12" ixz="-1.46E-11" iyy="7.96E-11" iyz="5.13E-11" izz="4.07E-11"/>
    </inertial>
    <visual>
      <origin xyz="0 0 0" rpy="0 0 0"/>
      <geometry>
        <mesh filename="coacd_convex_piece_74.obj" scale="1.0000E+00 1.0000E+00 1.0000E+00"/>
      </geometry>
      <material name="">
        <color rgba="7.50E-01 7.50E-01 7.50E-01 1"/>
      </material>
    </visual>
    <collision>
      <origin xyz="0 0 0" rpy="0 0 0"/>
      <geometry>
        <mesh filename="coacd_convex_piece_74.obj" scale="1.0000E+00 1.0000E+00 1.0000E+00"/>
      </geometry>
    </collision>
  </link>
  <joint name="link_coacd_convex_piece_74_joint" type="fixed">
    <origin xyz="0 0 0" rpy="0 0 0"/>
    <parent link="link_coacd_convex_piece_73"/>
    <child link="link_coacd_convex_piece_74"/>
  </joint>
  <link name="link_coacd_convex_piece_75">
    <inertial>
      <origin xyz="0 0 0" rpy="0 0 0"/>
      <inertia ixx="2.69E-10" ixy="2.04E-11" ixz="3.34E-11" iyy="1.99E-10" iyz="-1.17E-10" izz="8.39E-11"/>
    </inertial>
    <visual>
      <origin xyz="0 0 0" rpy="0 0 0"/>
      <geometry>
        <mesh filename="coacd_convex_piece_75.obj" scale="1.0000E+00 1.0000E+00 1.0000E+00"/>
      </geometry>
      <material name="">
        <color rgba="7.50E-01 7.50E-01 7.50E-01 1"/>
      </material>
    </visual>
    <collision>
      <origin xyz="0 0 0" rpy="0 0 0"/>
      <geometry>
        <mesh filename="coacd_convex_piece_75.obj" scale="1.0000E+00 1.0000E+00 1.0000E+00"/>
      </geometry>
    </collision>
  </link>
  <joint name="link_coacd_convex_piece_75_joint" type="fixed">
    <origin xyz="0 0 0" rpy="0 0 0"/>
    <parent link="link_coacd_convex_piece_74"/>
    <child link="link_coacd_convex_piece_75"/>
  </joint>
</robot>
